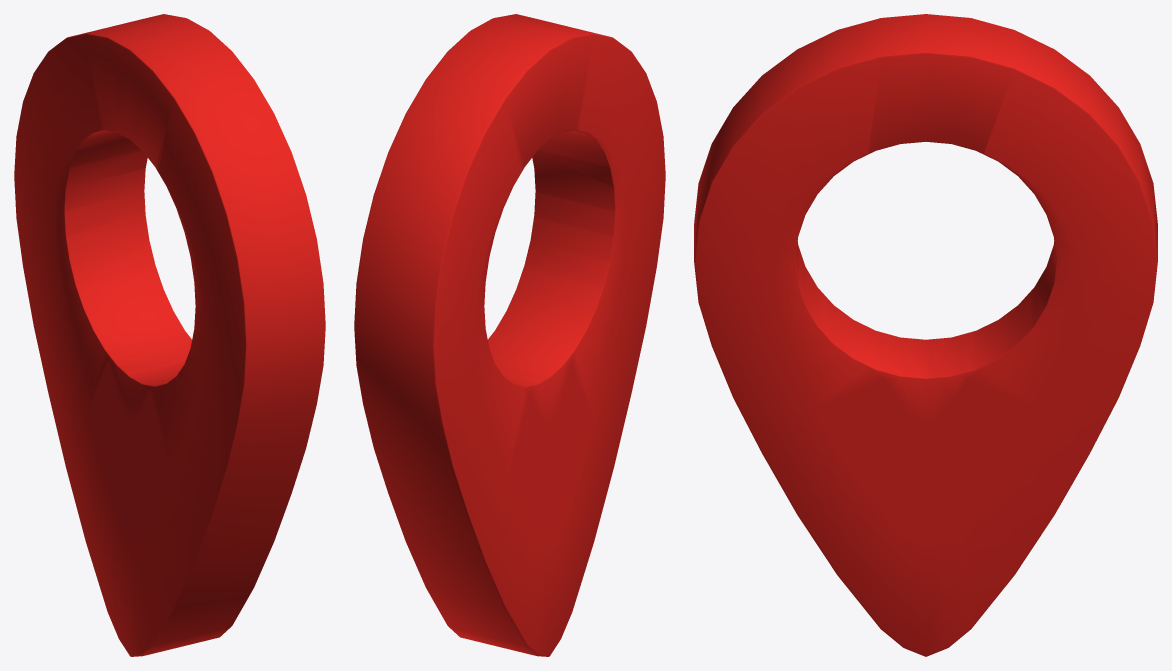
Rendered from RedPins.fbx.
3 views of the same model, side by side, from view 1: azimuth 30°, elevation 25°; view 2: azimuth 150°, elevation 25°; view 3: azimuth 270°, elevation 25° (orthographic).
Parts seen in each view (by area): view 1: RedPins; view 2: RedPins; view 3: RedPins.
Part boxes in pixels (x1,y1,x2,y2): RedPins: [14, 14, 325, 656]; RedPins: [354, 14, 665, 656]; RedPins: [694, 14, 1157, 656].
Size of the model in its own units: 69.62 by 100 by 13.91.
